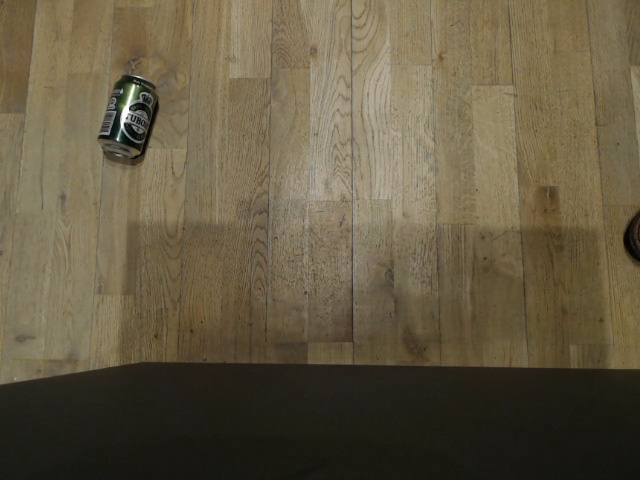beer: (448, 321, 545, 373), (135, 319, 230, 363), (403, 0, 459, 41)
cola: (459, 179, 518, 263), (411, 172, 466, 258)
